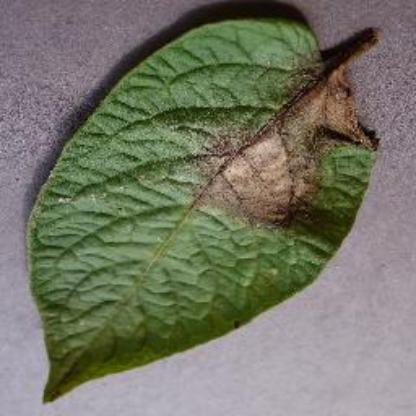Late-Blight: (20, 12, 394, 408)
